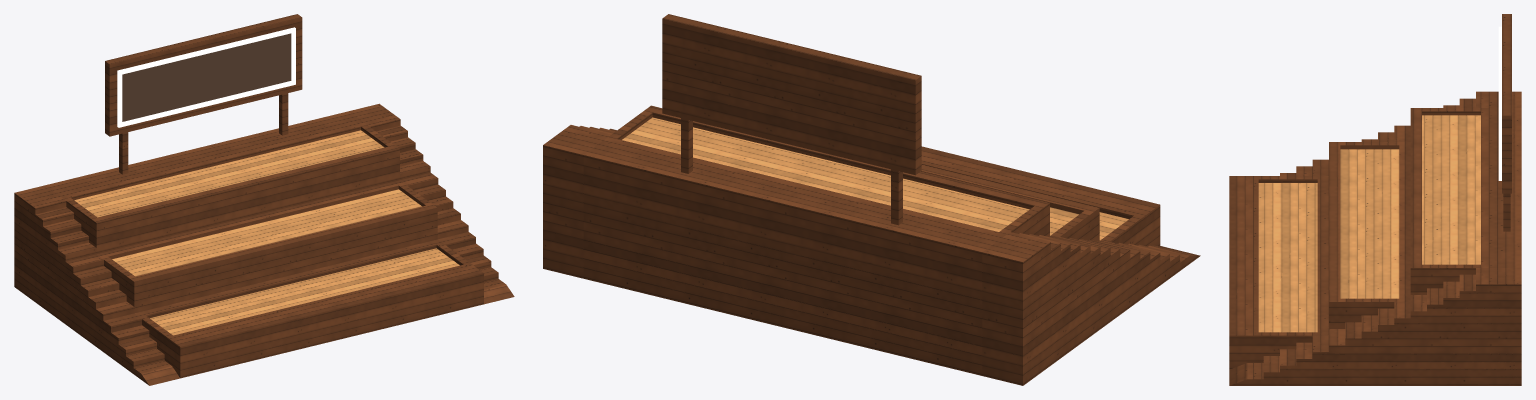
Rendered from power_podium.glb.
3 renders of one model, left to right at view 1: azimuth 30°, elevation 25°; view 2: azimuth 150°, elevation 25°; view 3: azimuth 270°, elevation 25°, orthographic. The views are drawn at different scales.
Visible parts, largest first — view 1: power_podium; view 2: power_podium; view 3: power_podium.
Boxes of the visible parts, bbox=[...] form: power_podium: bbox=[14, 14, 514, 385]; power_podium: bbox=[543, 14, 1200, 385]; power_podium: bbox=[1229, 14, 1521, 385].
Size of the model in its own units: 22.2 by 12.09 by 14.25.
Materials: 4 (2 with a texture image).
